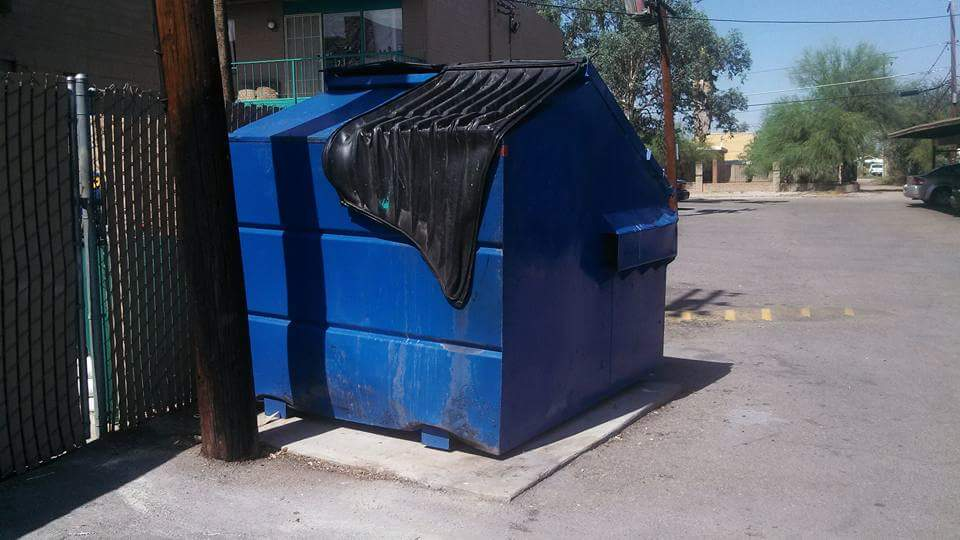Dumpster: (222, 53, 691, 467)
